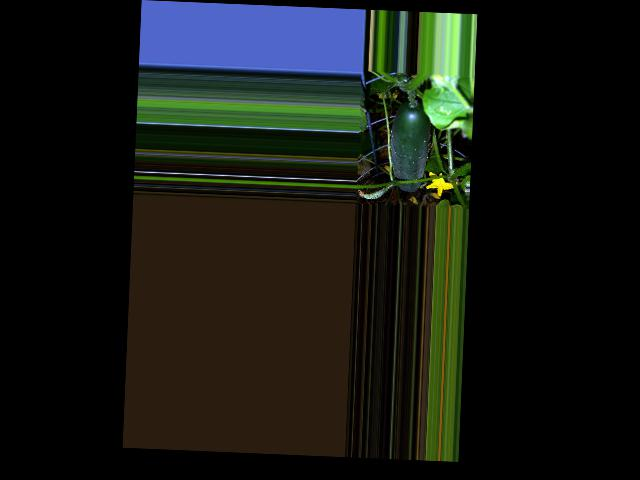cucumber: (387, 99, 431, 192)
